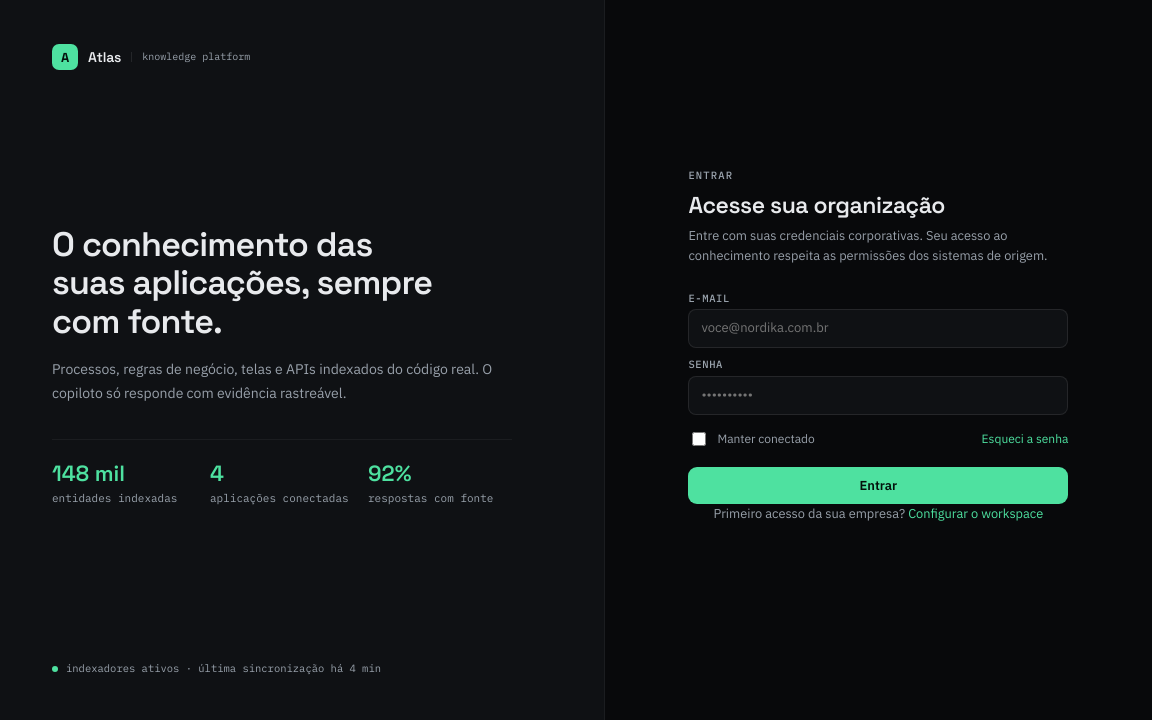
Test: LoginPage › submissão com credenciais inválidas mostra erro acessível e não navega
The width and height of the screenshot is (1152, 720).
Step 1. Type "ana@atlas.dev" into the field labelled "E-mail" → {"x": 878, "y": 329}, box [688,309,1068,348]
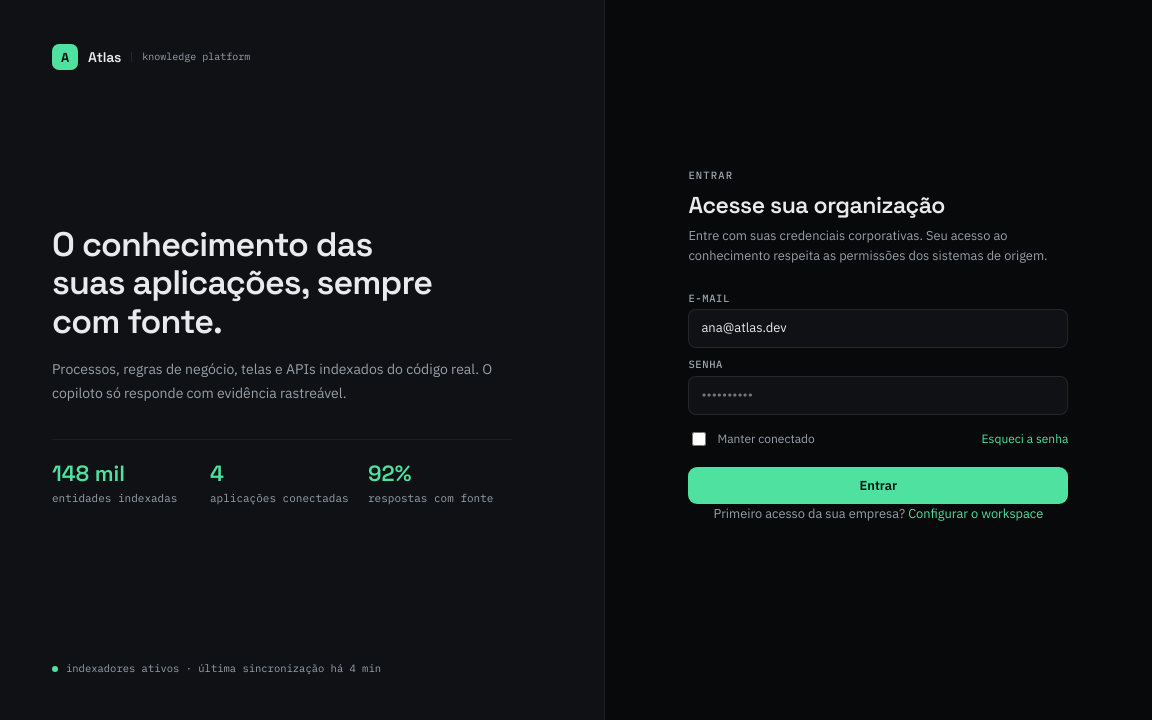
Step 2. Type "senha-errada" into the password field labelled "Senha" → {"x": 878, "y": 395}, box [688,376,1068,415]
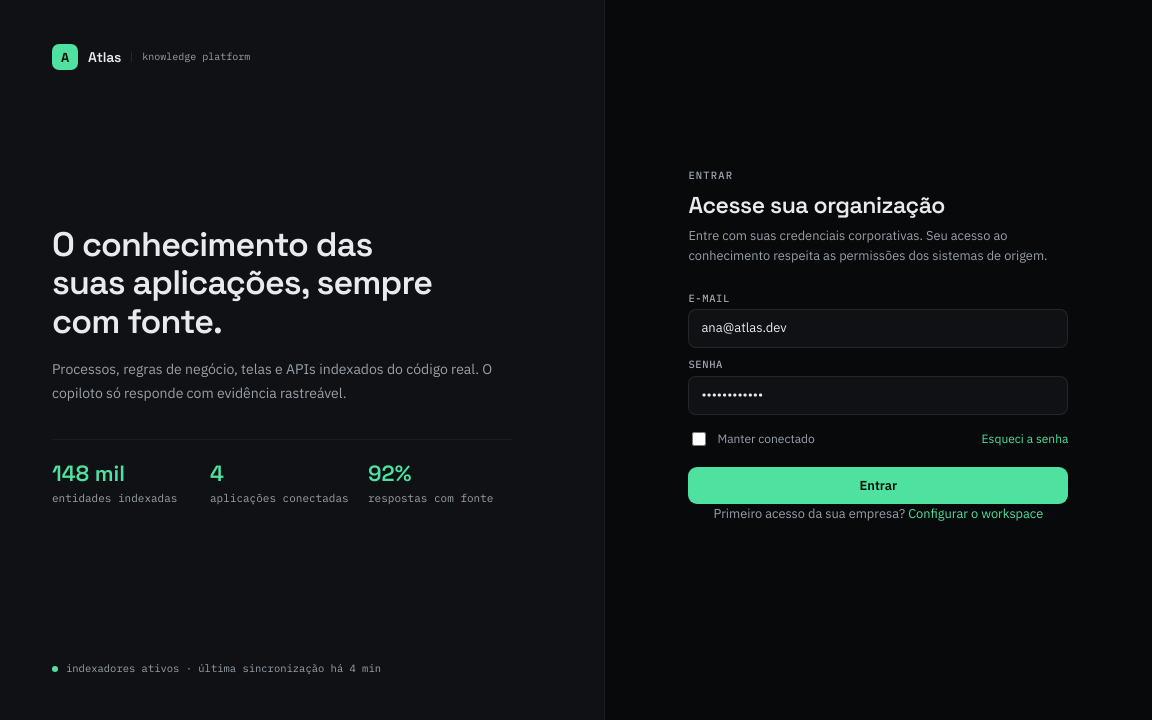
Step 3. Click the button "Entrar" → {"x": 878, "y": 485}, box [688,467,1068,504]
(page scrolled)
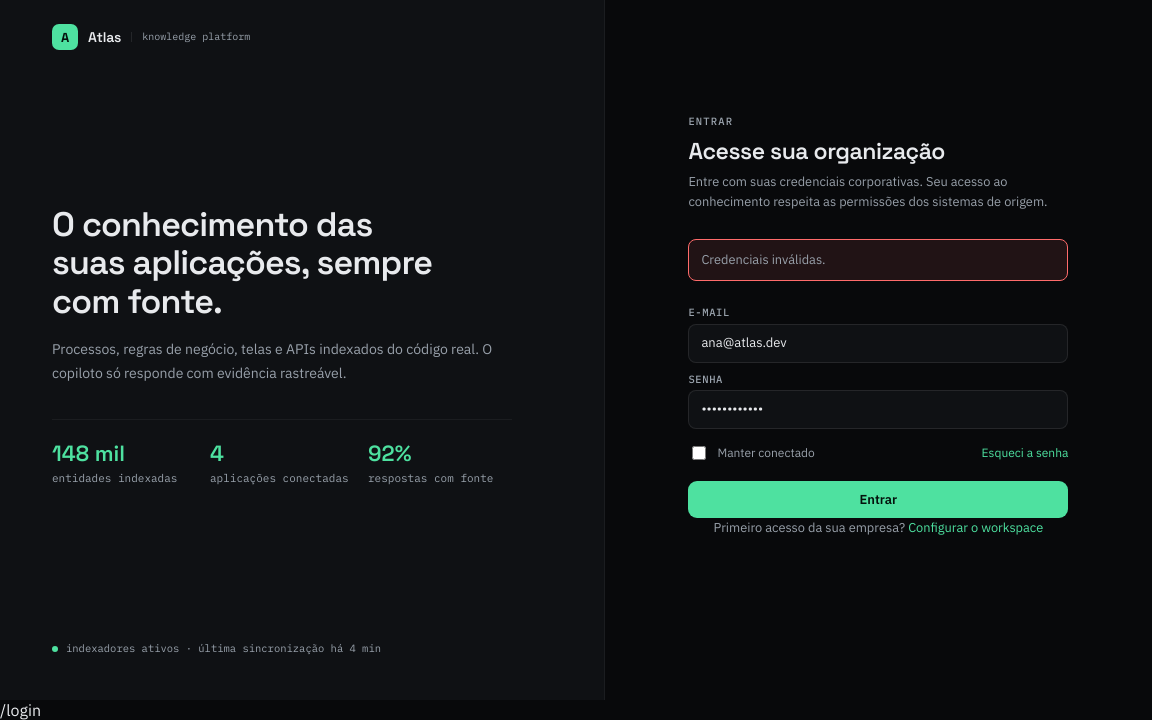
Expected: the text "/login" is shown, [0,700,41,719]
Expected: the message reads "Credenciais inválidas.", [701,251,826,268]
